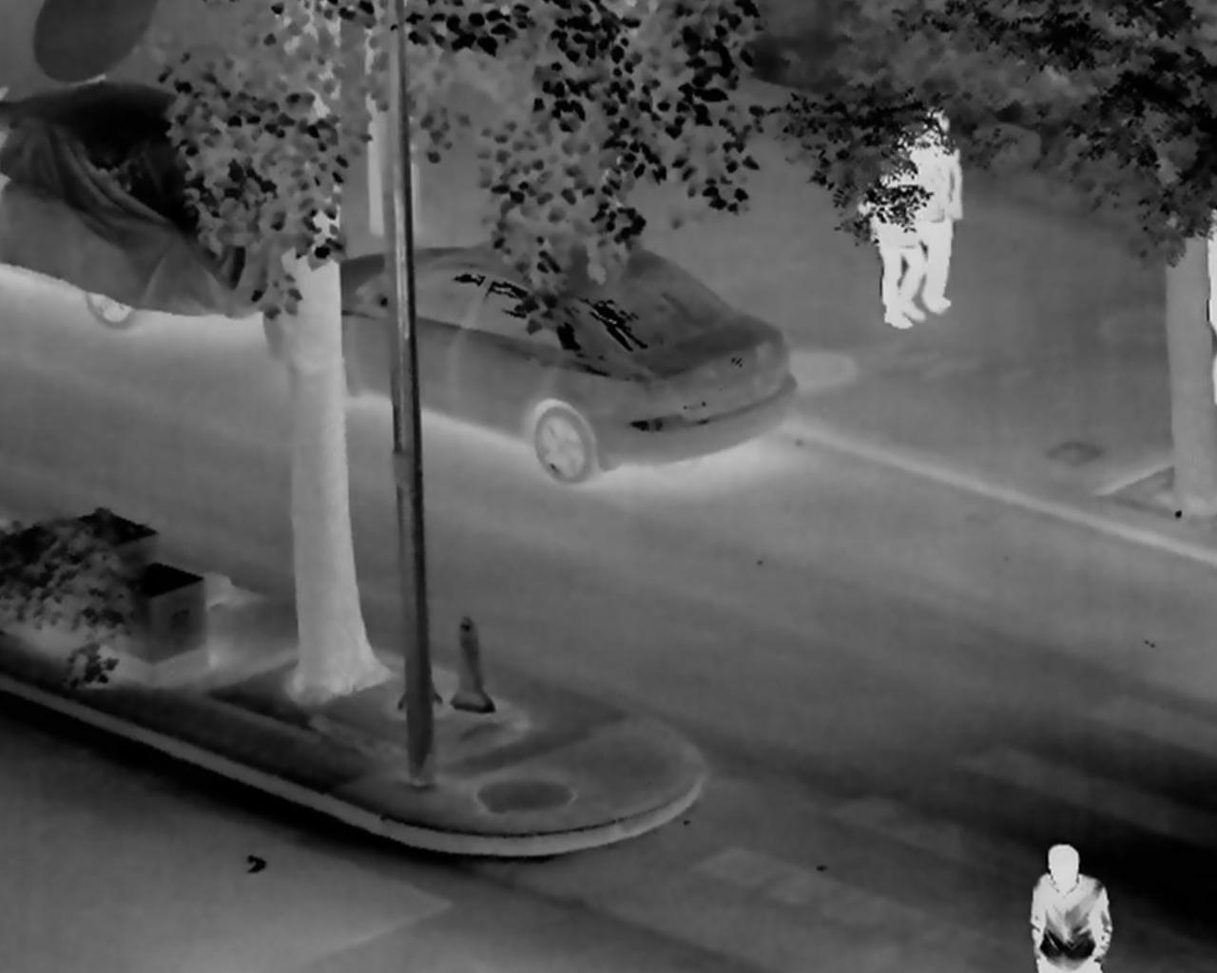person: (864, 138, 930, 333), (904, 106, 966, 312), (1025, 844, 1111, 973)
